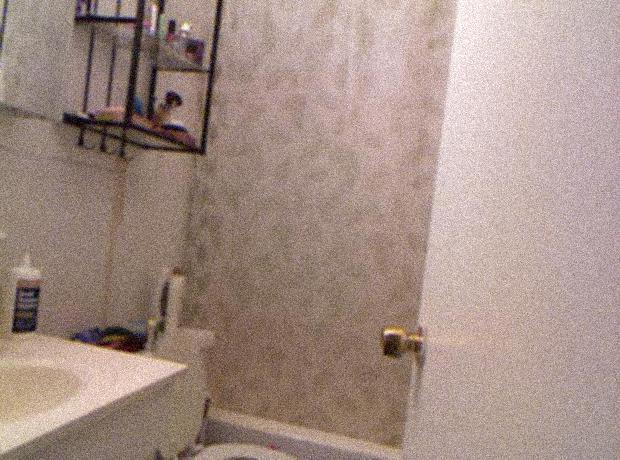Lavamanos: (0, 331, 123, 451)
Sanitario: (102, 321, 297, 459)
